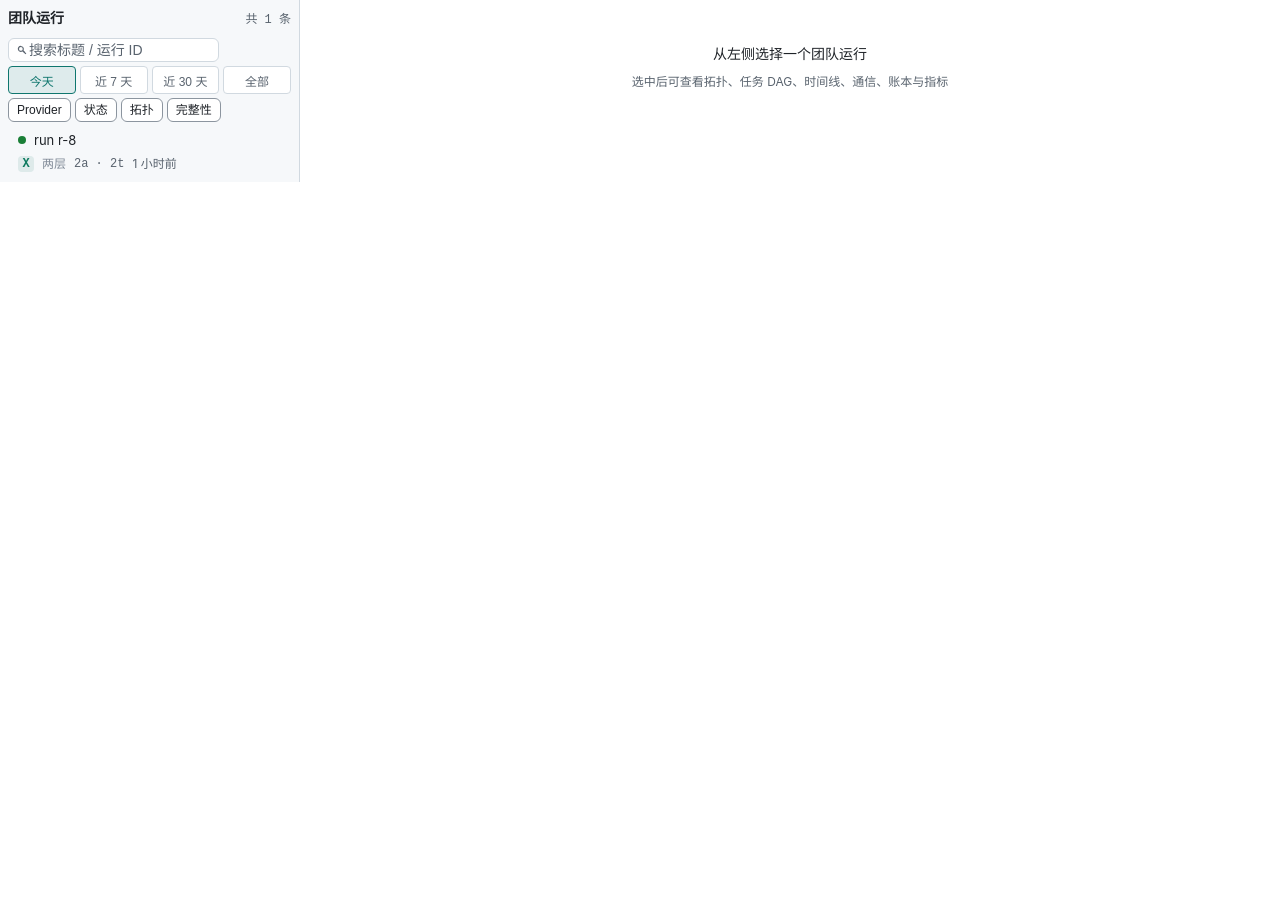
Test: TeamShell selection 共享高亮 › omits monetary availability/currency even when source cost evidence exists, preserving Token availability
This screenshot has width=1280, height=900.
Click the option with class "team-row". click: [55, 140]
box: [18,132,177,172]
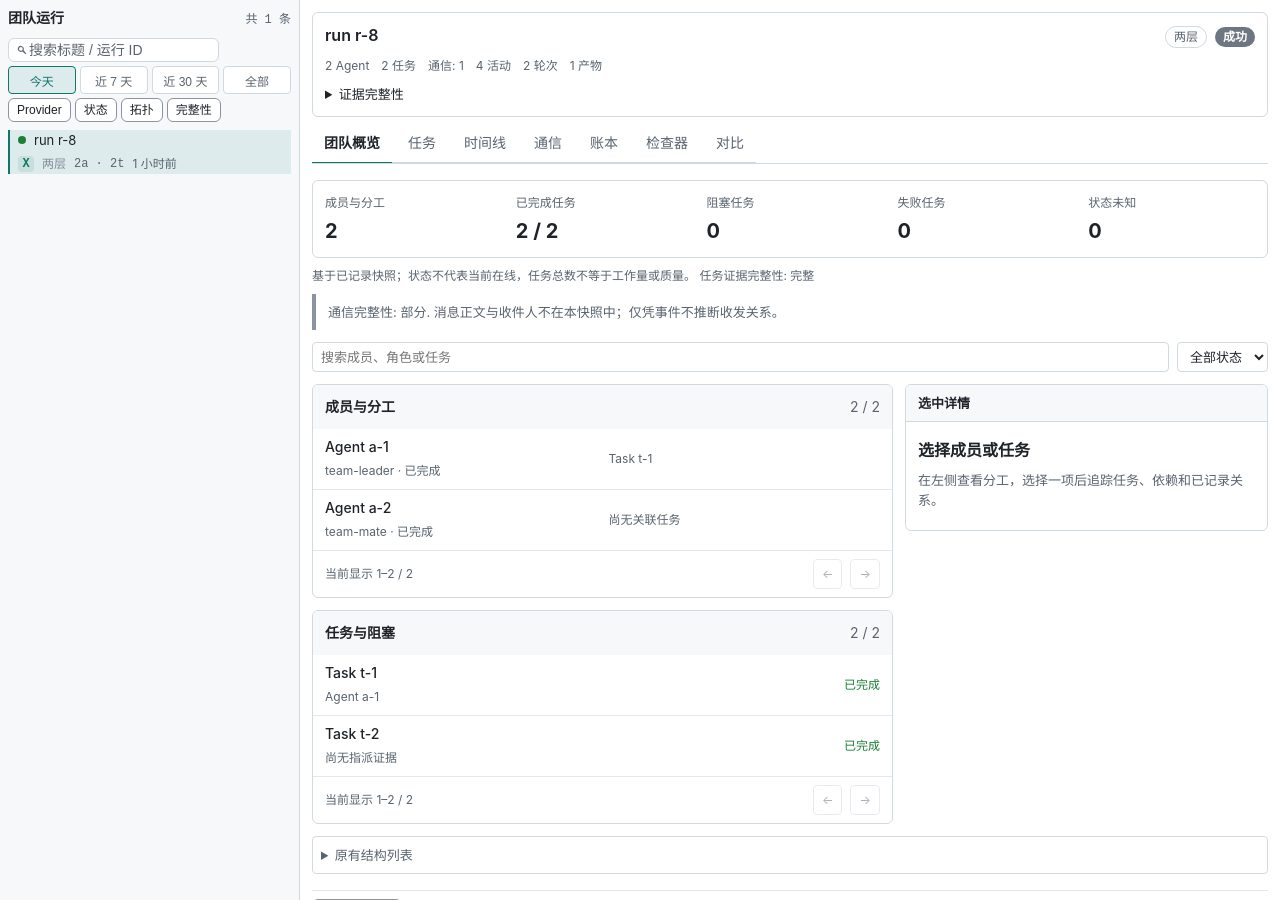
Expected: the header with class "team-summary-header" is shown, [312,12,1268,117]
